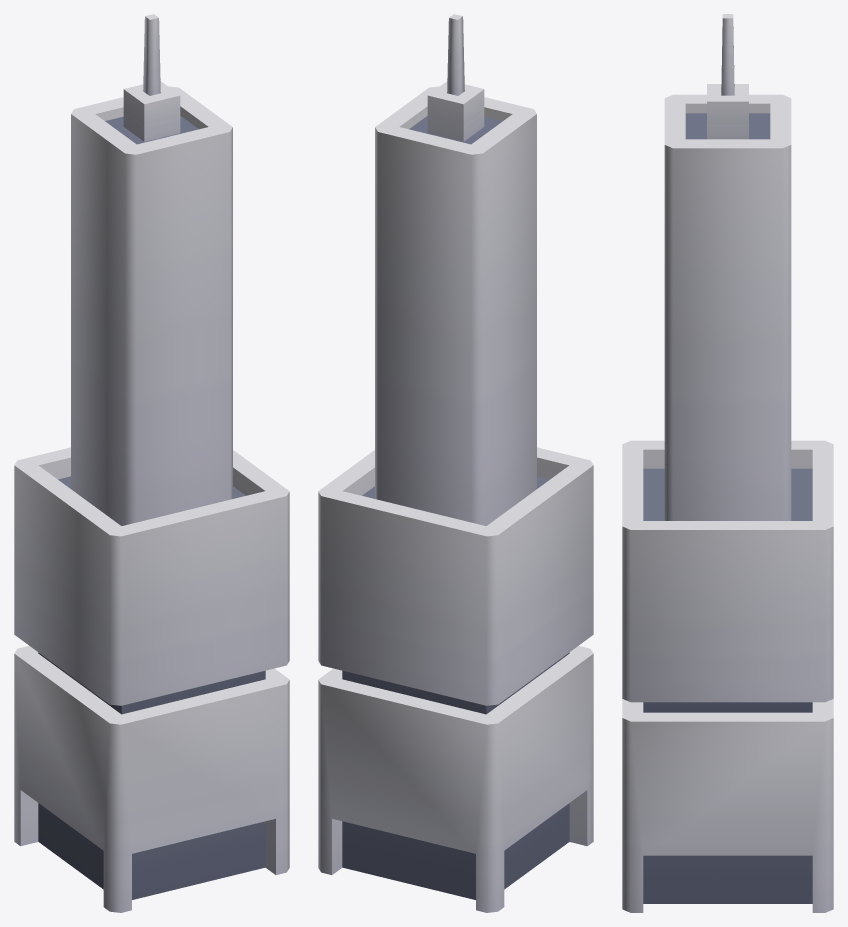
Rendered from low-detail-building-b.glb.
3 views of the same model, side by side, from view 1: azimuth 30°, elevation 25°; view 2: azimuth 150°, elevation 25°; view 3: azimuth 270°, elevation 25° (orthographic).
Visible parts, largest first — view 1: low-detail-building-b; view 2: low-detail-building-b; view 3: low-detail-building-b.
Boxes of the visible parts, left/top/right/bottom form: low-detail-building-b: left=14, top=14, right=289, bottom=912; low-detail-building-b: left=318, top=14, right=593, bottom=912; low-detail-building-b: left=622, top=14, right=833, bottom=912.
Bounding box in the file's own units: 0.5 × 2.23 × 0.5.
1 material, 1 textured.
